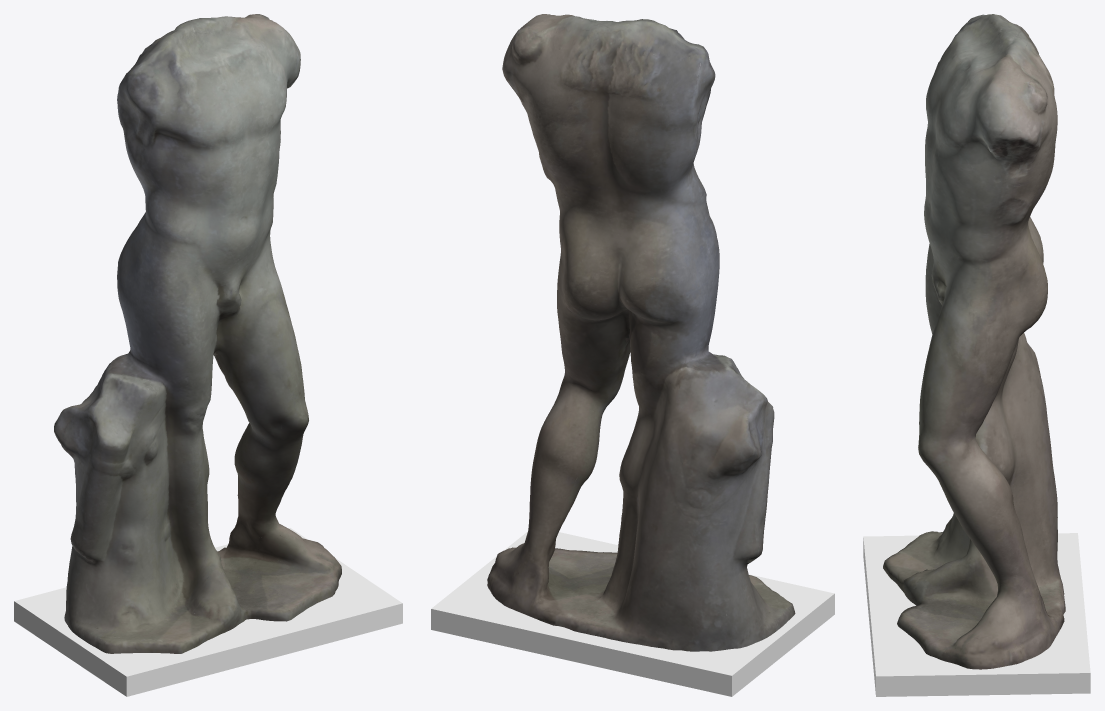
File: estatua.obj
The picture shows the model from 3 angles, left to right: view 1: azimuth 30°, elevation 25°; view 2: azimuth 150°, elevation 25°; view 3: azimuth 270°, elevation 25°; orthographic projection. The views are drawn at different scales.
Parts seen in each view (by area): view 1: Cube_Material.001; view 2: Cube_Material.001; view 3: Cube_Material.001.
Boxes of the visible parts, x1,y1,x2,y2 form: Cube_Material.001: (14, 14, 402, 696); Cube_Material.001: (431, 14, 834, 696); Cube_Material.001: (863, 14, 1090, 696).
Size of the model in its own units: 3.74 by 7.28 by 2.51.
